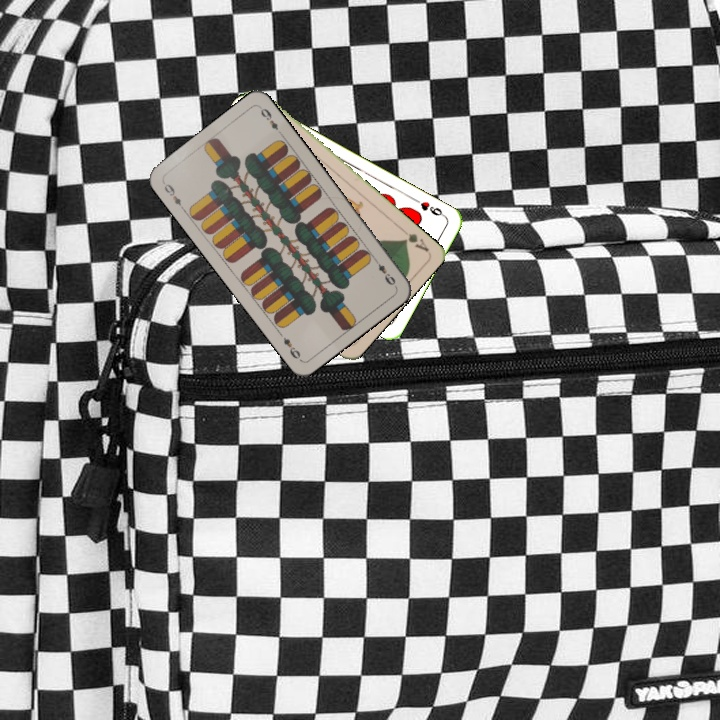E9: (370, 254, 399, 289), (159, 178, 187, 213)
GA: (397, 224, 431, 254)
H9: (411, 195, 448, 220)
